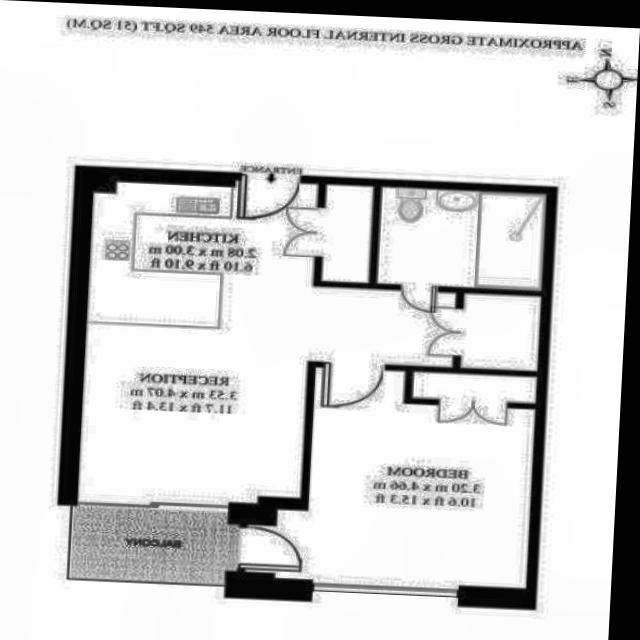room: (79, 175, 460, 512), (244, 365, 536, 589), (378, 188, 545, 290), (69, 505, 228, 585), (461, 294, 540, 370), (323, 184, 372, 282), (412, 372, 538, 403)
